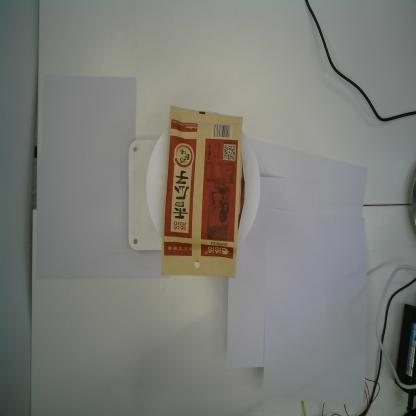Dried Food: (160, 104, 242, 279)
